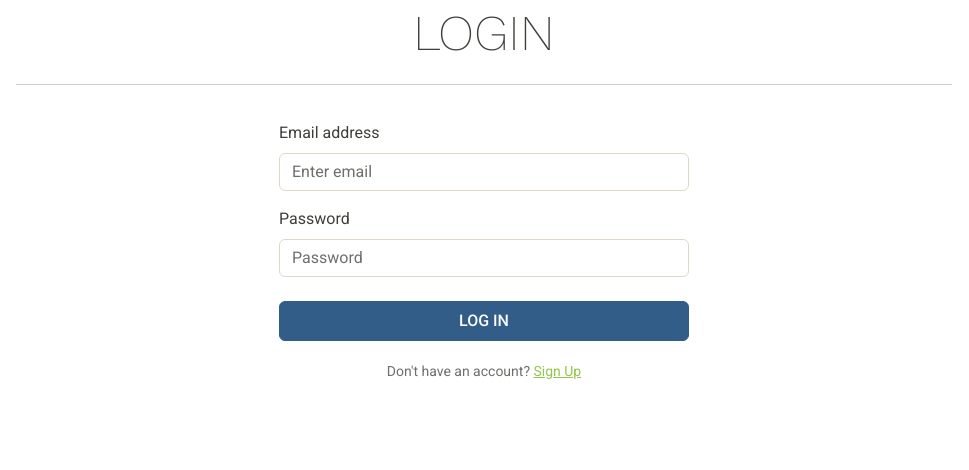
LoginPage › shows an error message on failed login
In the field labelled "Email address": (484, 172) [279, 153, 689, 191], type "test@example.com"
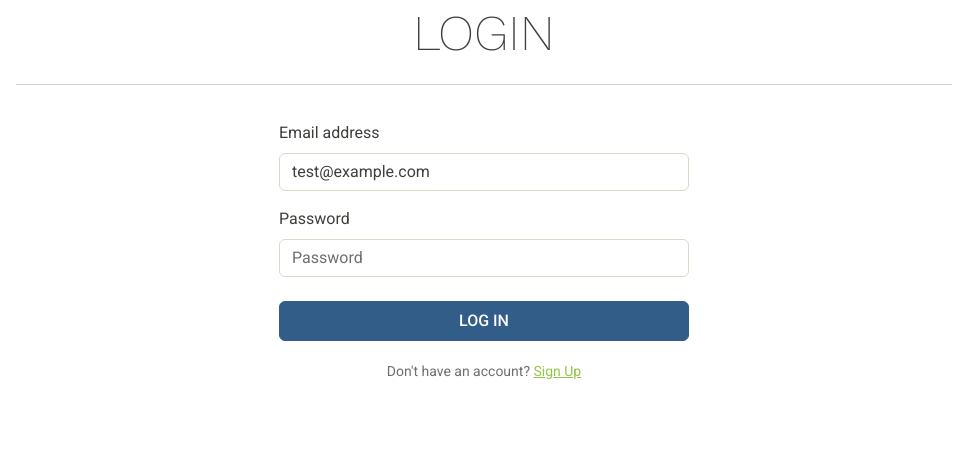
In the password field labelled "Password": (484, 258) [279, 239, 689, 277], type "wrongpassword"
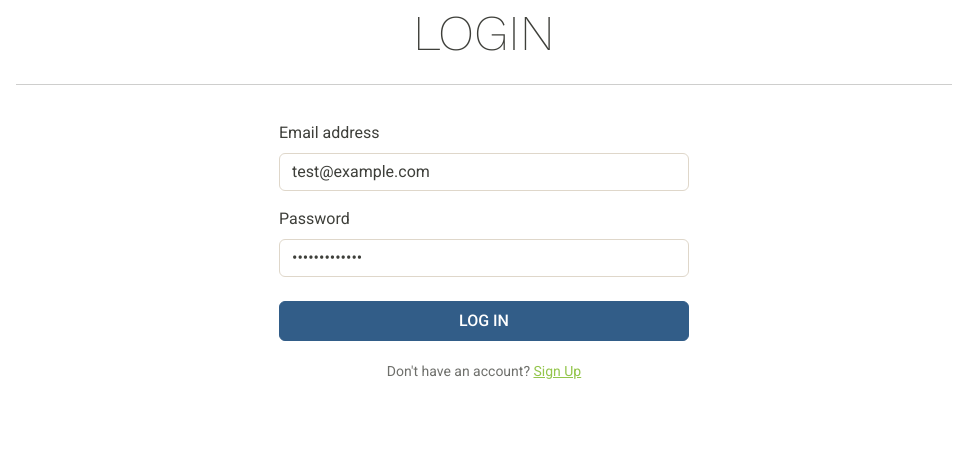
Click the button "LOG IN": (484, 321) [279, 301, 689, 341]
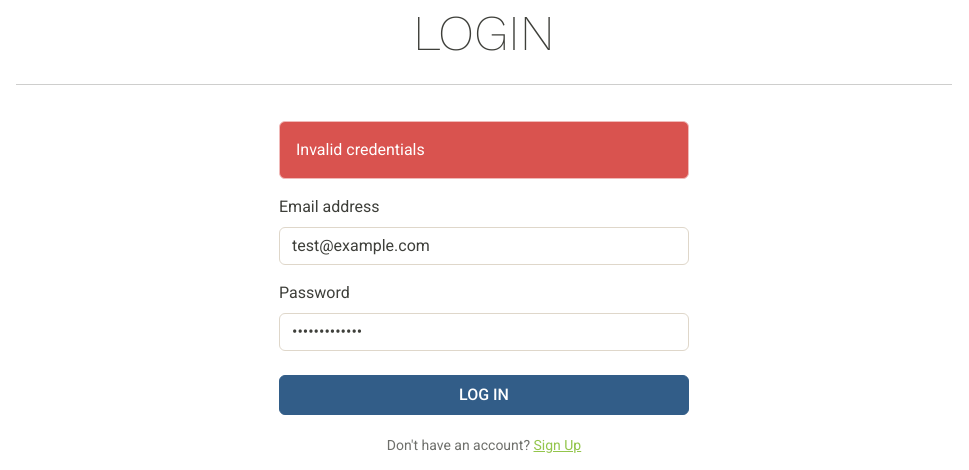
Check: the text "Invalid credentials" is shown, box [279, 121, 689, 179]
